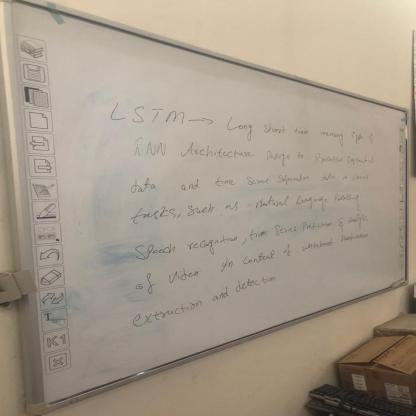Handwritten text: (122, 207, 381, 303), (103, 94, 384, 166), (125, 196, 379, 268), (122, 256, 301, 338), (125, 180, 378, 230), (129, 136, 384, 182), (121, 158, 374, 201)
Whiteboard: (5, 2, 411, 416)
